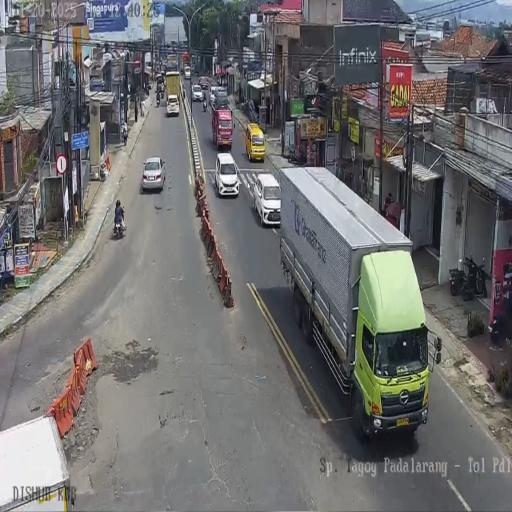3: (280, 170, 426, 436), (211, 103, 233, 150), (165, 54, 178, 74), (156, 74, 165, 94)
car: (252, 172, 280, 225), (214, 152, 240, 199), (244, 122, 266, 162), (142, 156, 166, 192), (166, 93, 180, 117), (191, 84, 203, 102), (199, 76, 209, 90), (209, 88, 216, 107), (184, 65, 190, 79)
truck: (113, 211, 126, 238), (202, 94, 208, 112), (156, 93, 160, 107), (146, 83, 150, 96)
